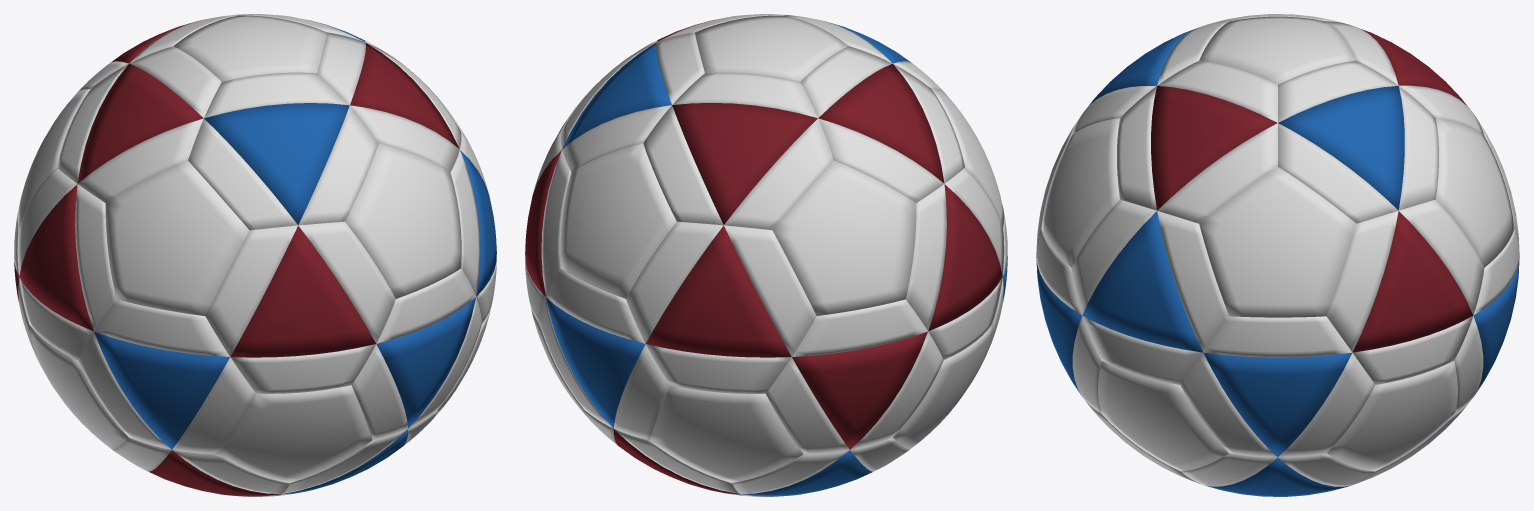
The model's file is footvolley_ball.glb.
3 views of the same model, side by side, from view 1: azimuth 30°, elevation 25°; view 2: azimuth 150°, elevation 25°; view 3: azimuth 270°, elevation 25° (orthographic).
Parts seen in each view (by area): view 1: bola_0; view 2: bola_0; view 3: bola_0.
Boxes of the visible parts, x1,y1,x2,y2 form: bola_0: [14, 14, 496, 496]; bola_0: [525, 14, 1007, 496]; bola_0: [1036, 14, 1519, 496].
Bounding box in the file's own units: 0.5858 × 0.5863 × 0.5863.
